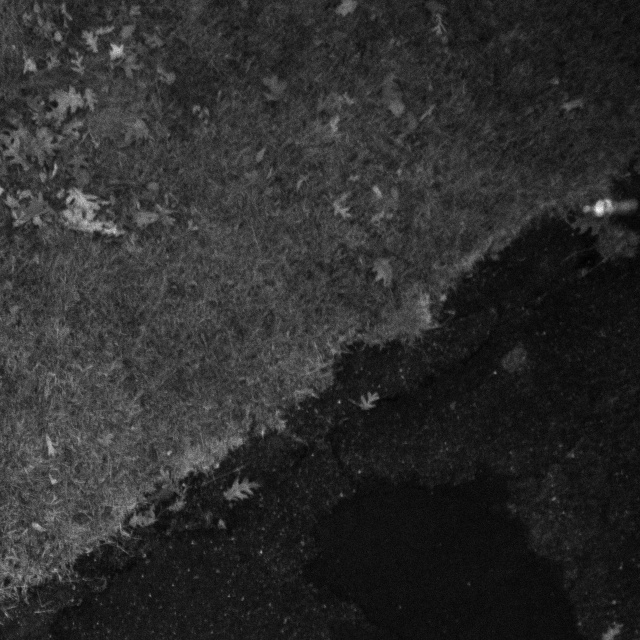bottle: (578, 187, 638, 237)
